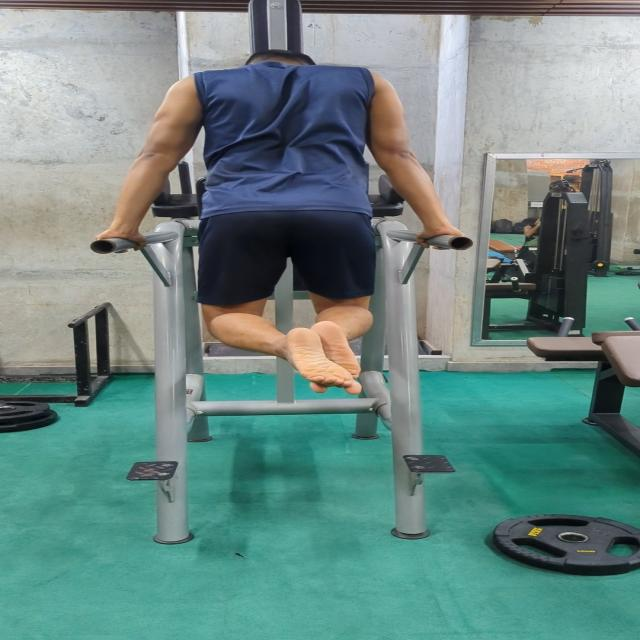Normal_Dips: (86, 43, 483, 397)
